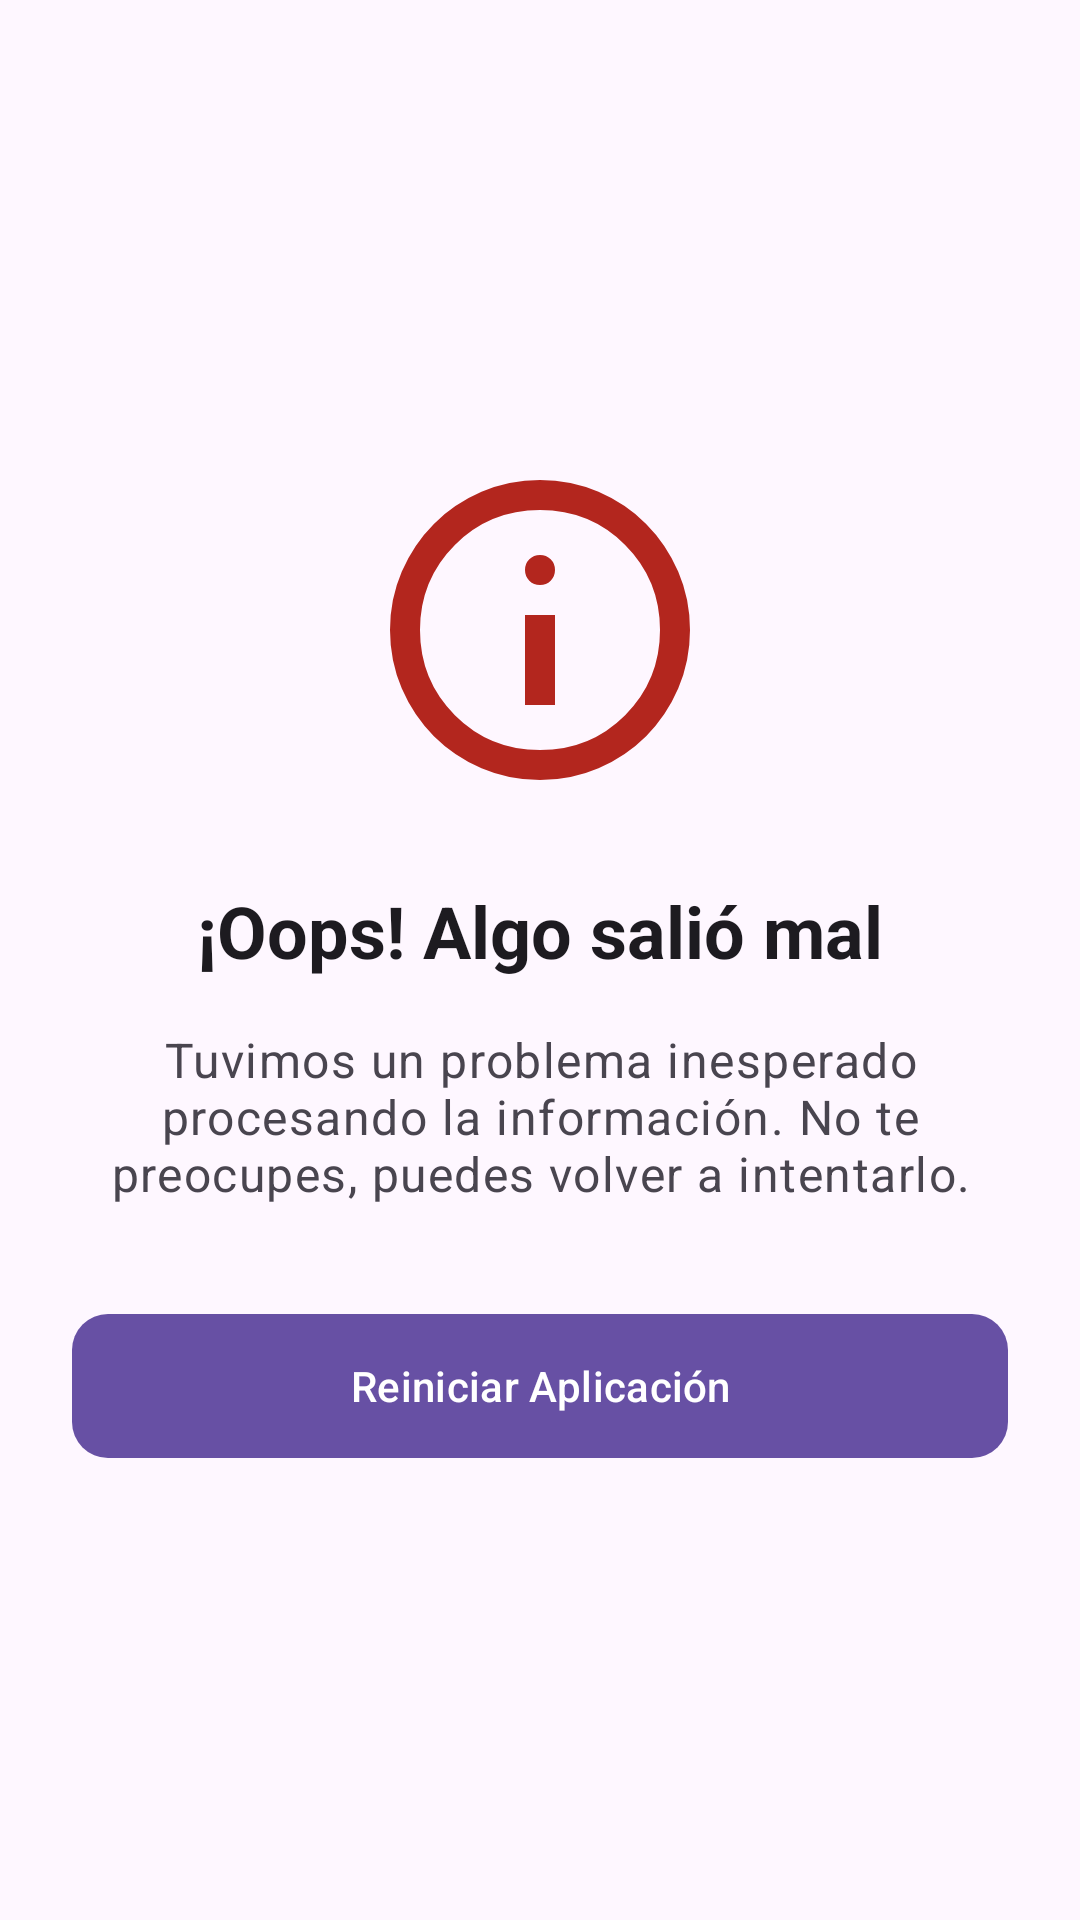

Icons on this 1080 × 1920 Android screen, each with the point to tap as [x,y]:
bar info: [540,630]
